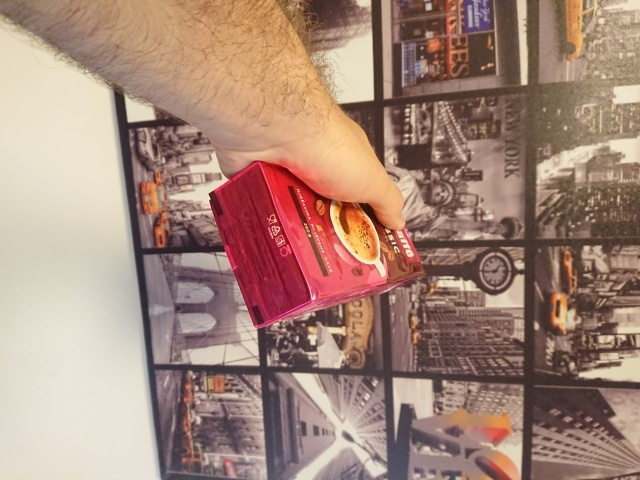Barcaffe Classic Original 225g: (205, 157, 429, 331)
